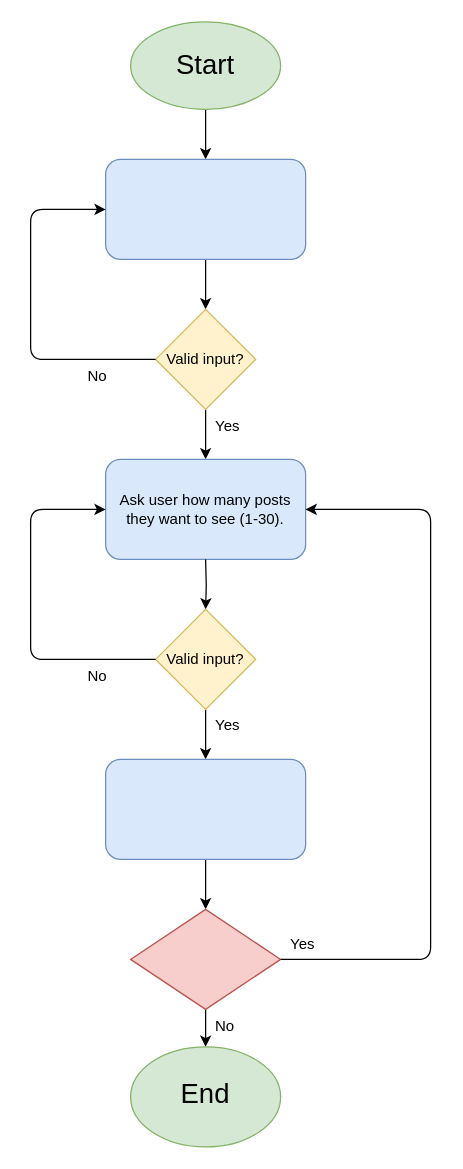
This 463x1169 diagram has some shape labels left out. Here are the shapes that lost their labels. From the top down, the box of each, then its label:
(104, 158, 306, 259): Ask user what post type they want to see (trending/new/top).
(104, 758, 306, 859): Display requested posts and information e.g. post link, votes, etc.
(129, 908, 281, 1009): More posts?
